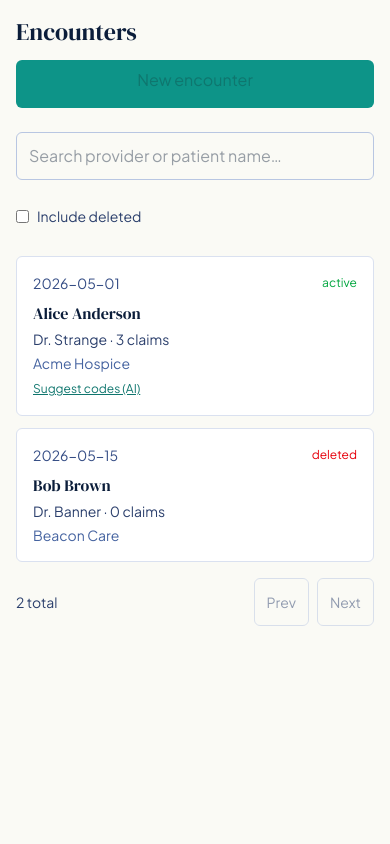
Test: EncountersList › shows "no suggestions" sentinel when both arrays empty (NullAiClient fallback)
Click the button "Suggest codes (AI)".
click(87, 389)  # box [33,381,140,397]
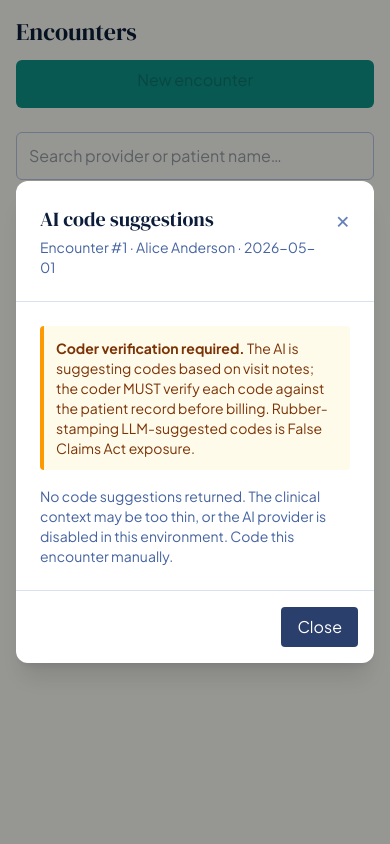
Now the text "No code suggestions returned" is shown, box [40,487,326,565]
Now the text "Coder verification required." is shown, box [56,339,245,357]
